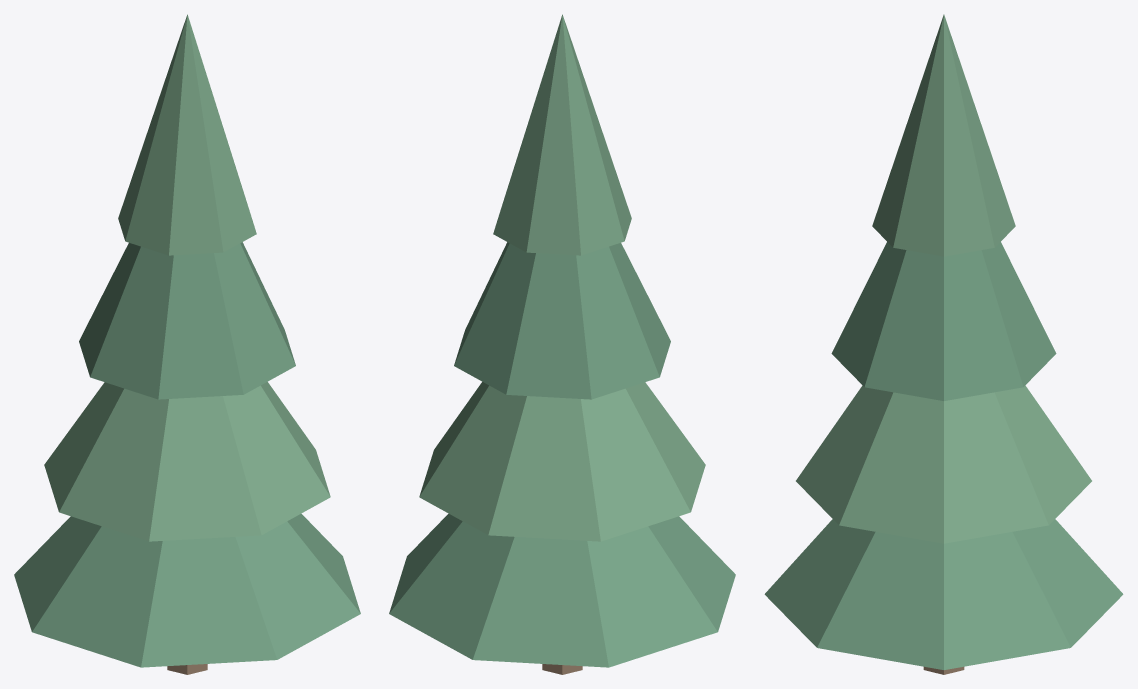
The model's file is pine.glb.
3 renders of one model, left to right at view 1: azimuth 30°, elevation 25°; view 2: azimuth 150°, elevation 25°; view 3: azimuth 270°, elevation 25°, orthographic.
Parts seen in each view (by area): view 1: pine; view 2: pine; view 3: pine.
Part boxes in pixels (x1=…): pine: x1=14, y1=14, x2=360, y2=674; pine: x1=389, y1=14, x2=735, y2=674; pine: x1=764, y1=14, x2=1123, y2=674.
Size of the model in its own units: 2.3 by 4.6 by 2.3.
